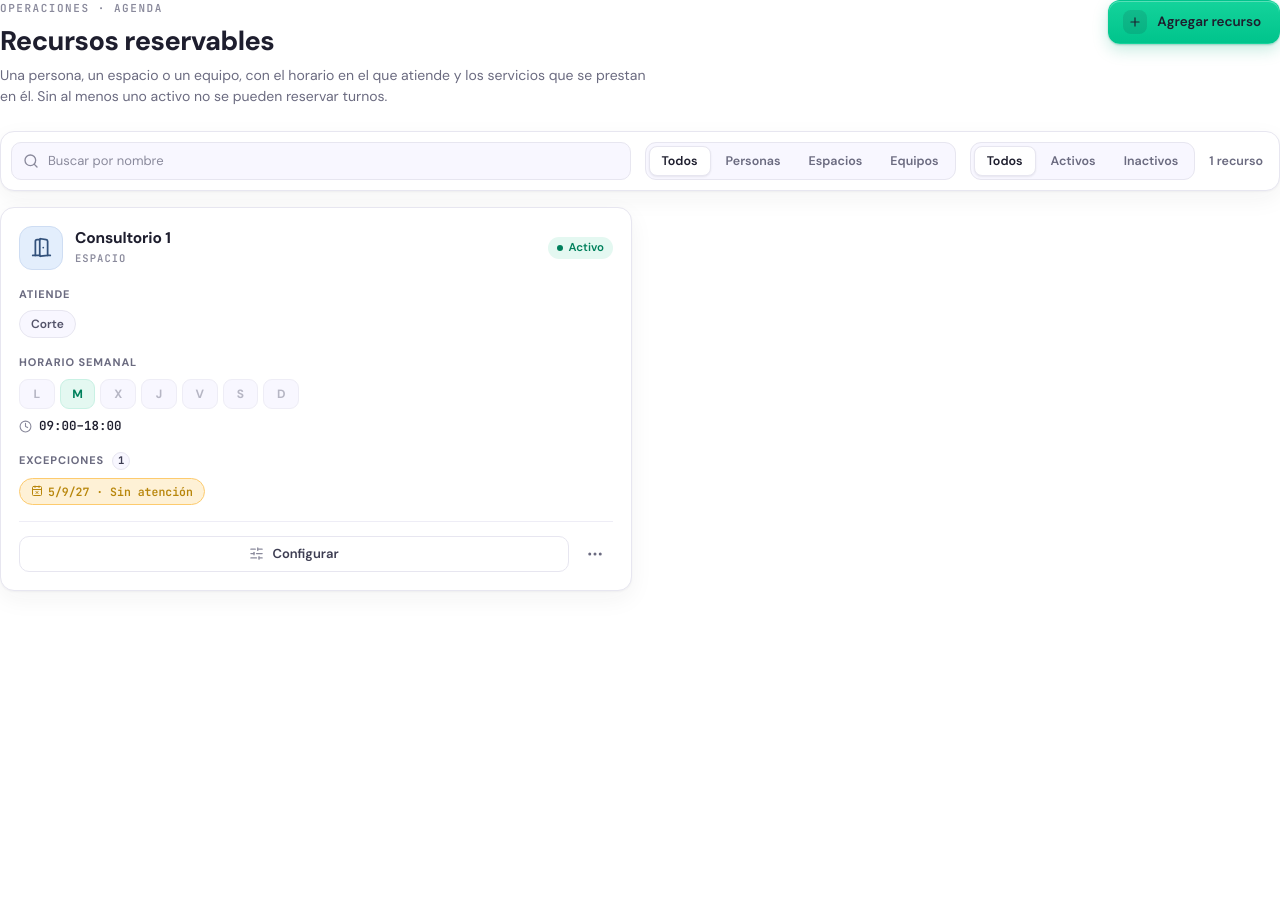
Test: PAN-AGE-03 › muestra el rechazo del backend con sus palabras al guardar un intervalo invalido
Click the button "Configurar" at (294, 554), box [19, 536, 569, 572]
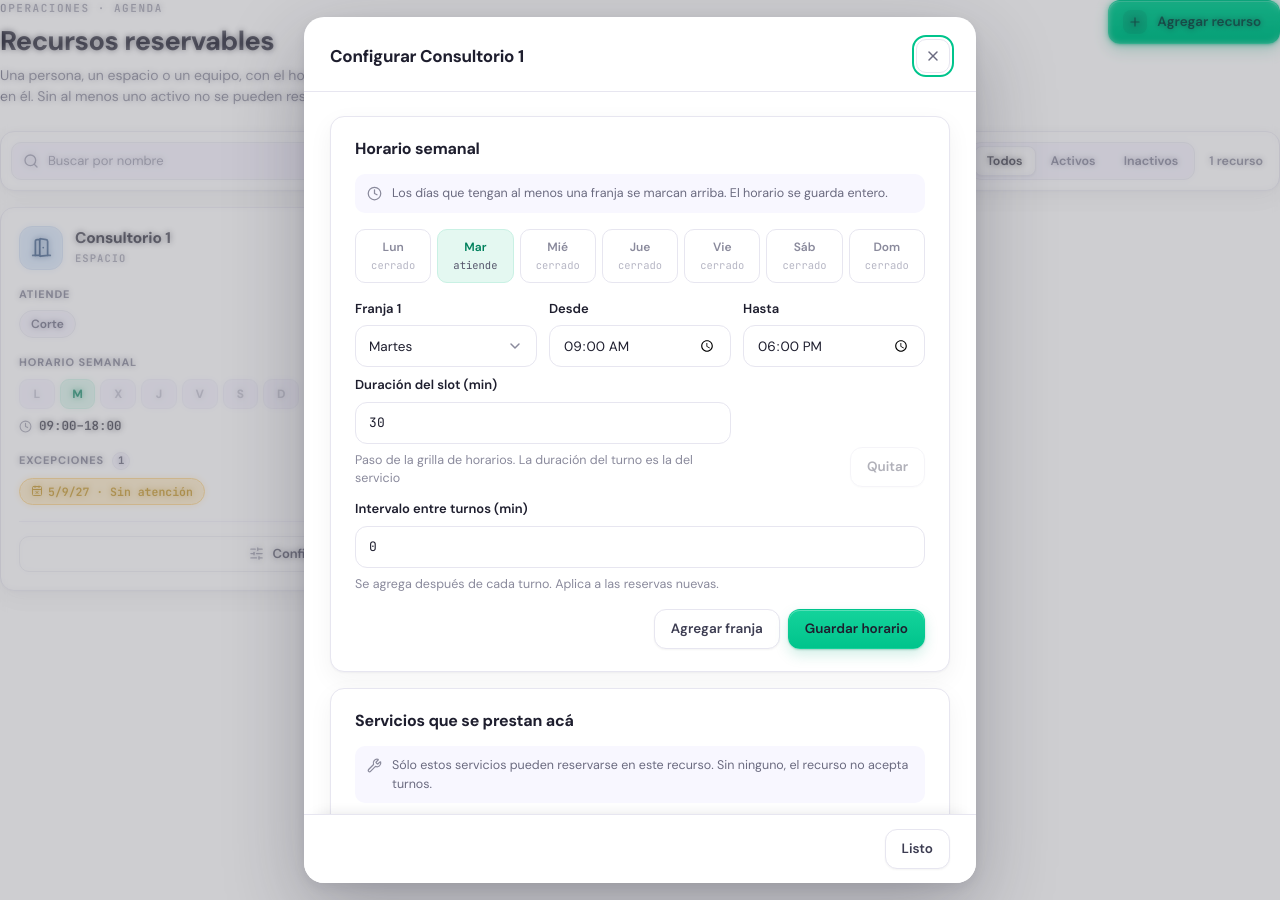
Replace the text in the number field labelled "Intervalo entre turnos (min)" with "-1" at (640, 547), box [355, 526, 925, 568]
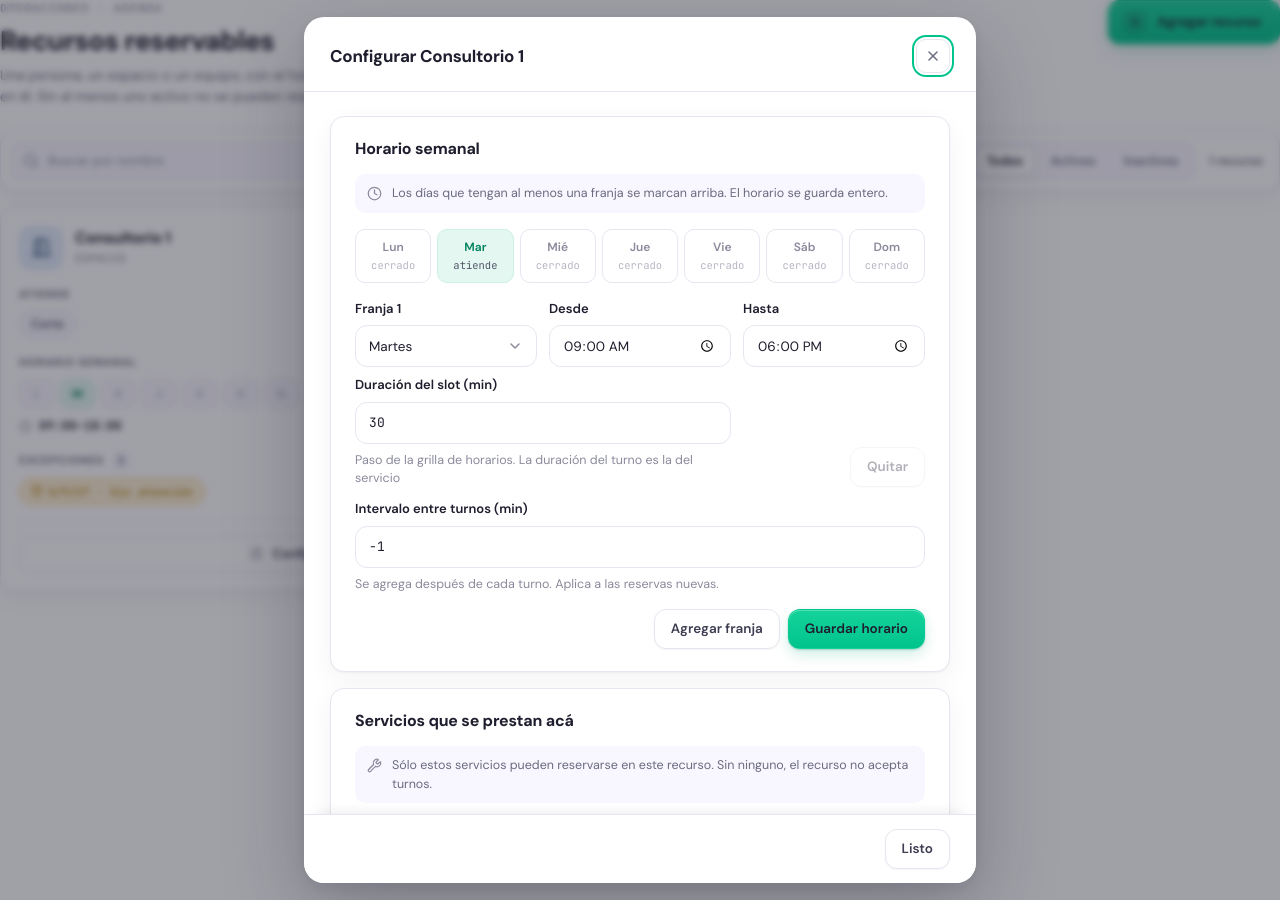
Click the button "Guardar horario" at (856, 629), box [788, 609, 925, 649]
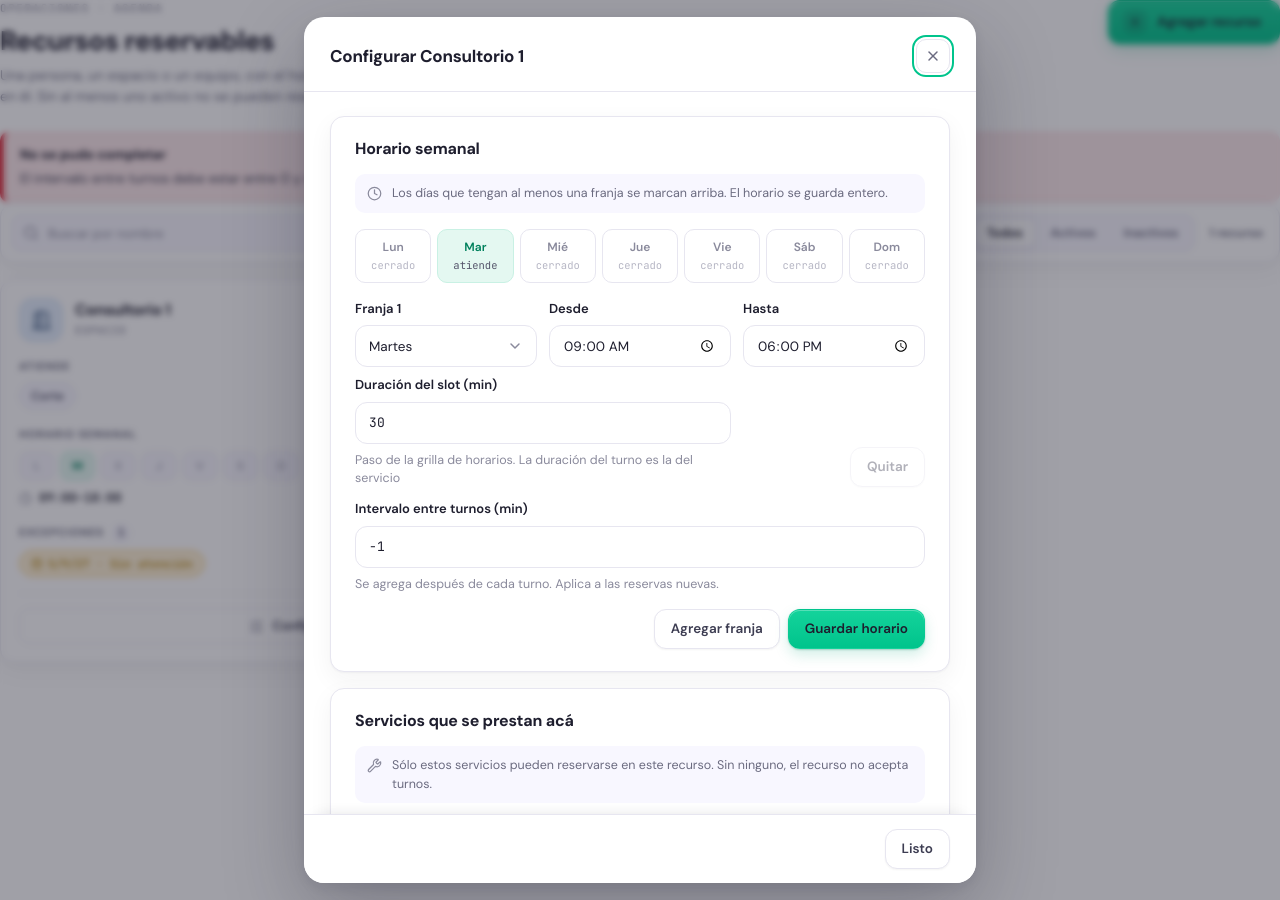
Check: the text "El intervalo entre turnos debe estar entre 0 y 480 minutos." is shown, box [20, 170, 387, 187]
